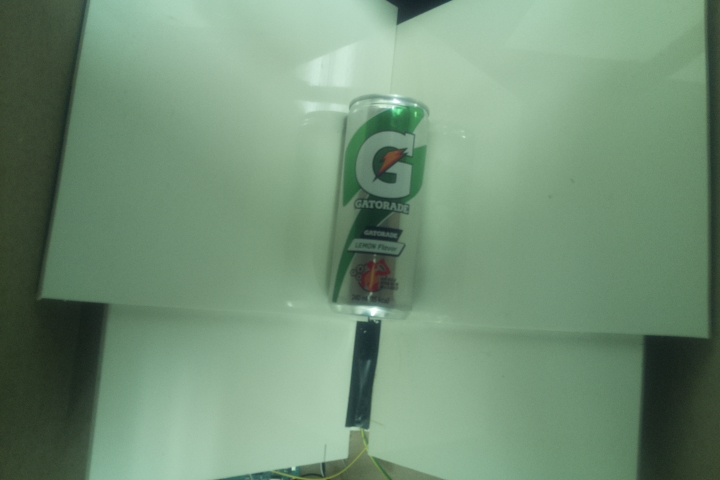can: (321, 93, 432, 322)
